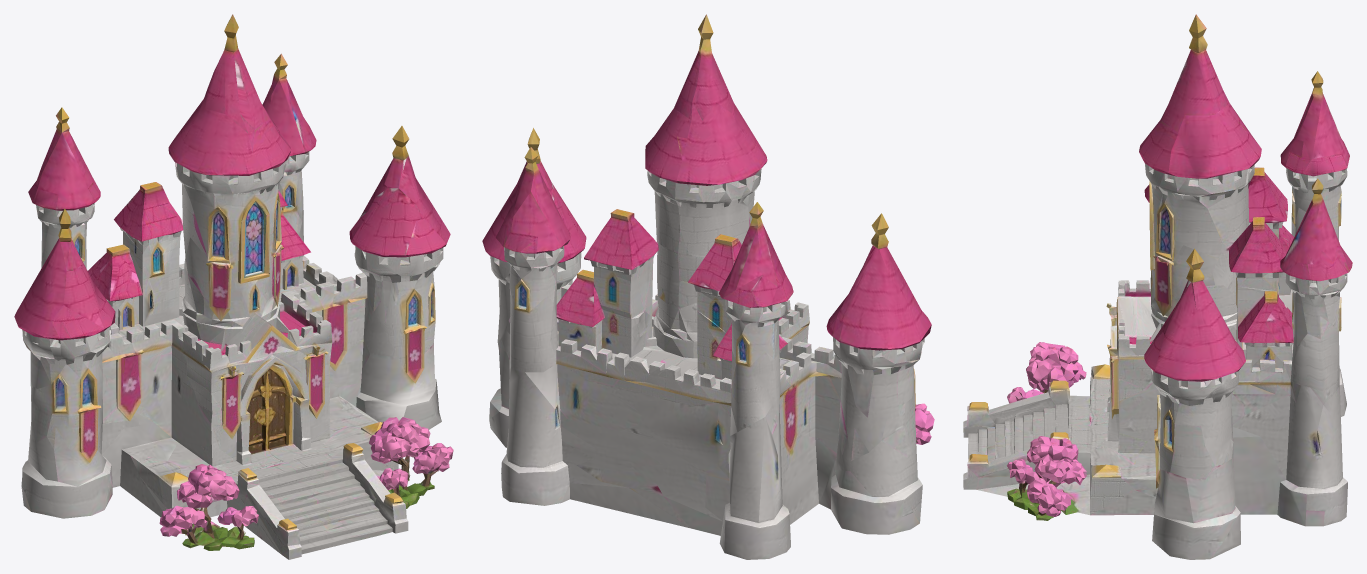
The model's file is town_castle.glb.
The picture shows the model from 3 angles, left to right: view 1: azimuth 30°, elevation 25°; view 2: azimuth 150°, elevation 25°; view 3: azimuth 270°, elevation 25°; orthographic projection. The views are drawn at different scales.
Bounding box in the file's own units: 1.88 × 1.9 × 1.5.
1 material, 1 textured.
